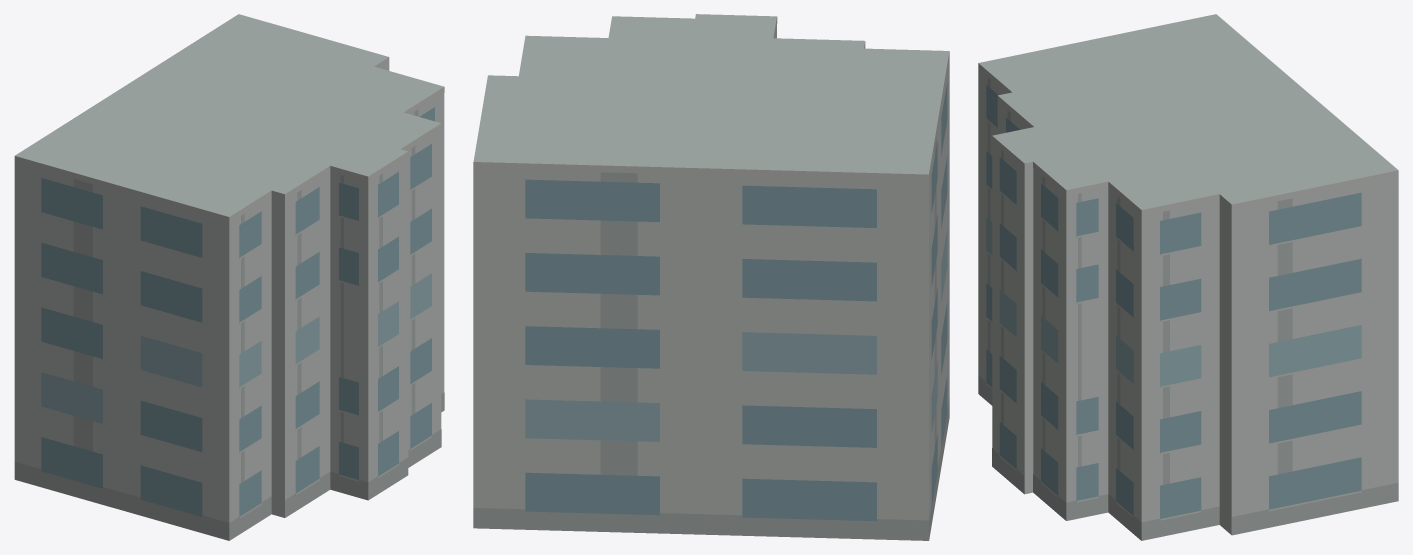
The model's file is survey-upis-33039978.glb.
3 views of the same model, side by side, from view 1: azimuth 30°, elevation 25°; view 2: azimuth 150°, elevation 25°; view 3: azimuth 270°, elevation 25° (orthographic). The views are drawn at different scales.
Visible parts, largest first — view 1: survey-upis-33039978.tmp; view 2: survey-upis-33039978.tmp; view 3: survey-upis-33039978.tmp.
Boxes of the visible parts, left/top/right/bottom form: survey-upis-33039978.tmp: left=14, top=14, right=444, bottom=540; survey-upis-33039978.tmp: left=473, top=14, right=949, bottom=540; survey-upis-33039978.tmp: left=978, top=14, right=1398, bottom=540.
Size of the model in its own units: 16.66 by 13.1 by 15.09.
